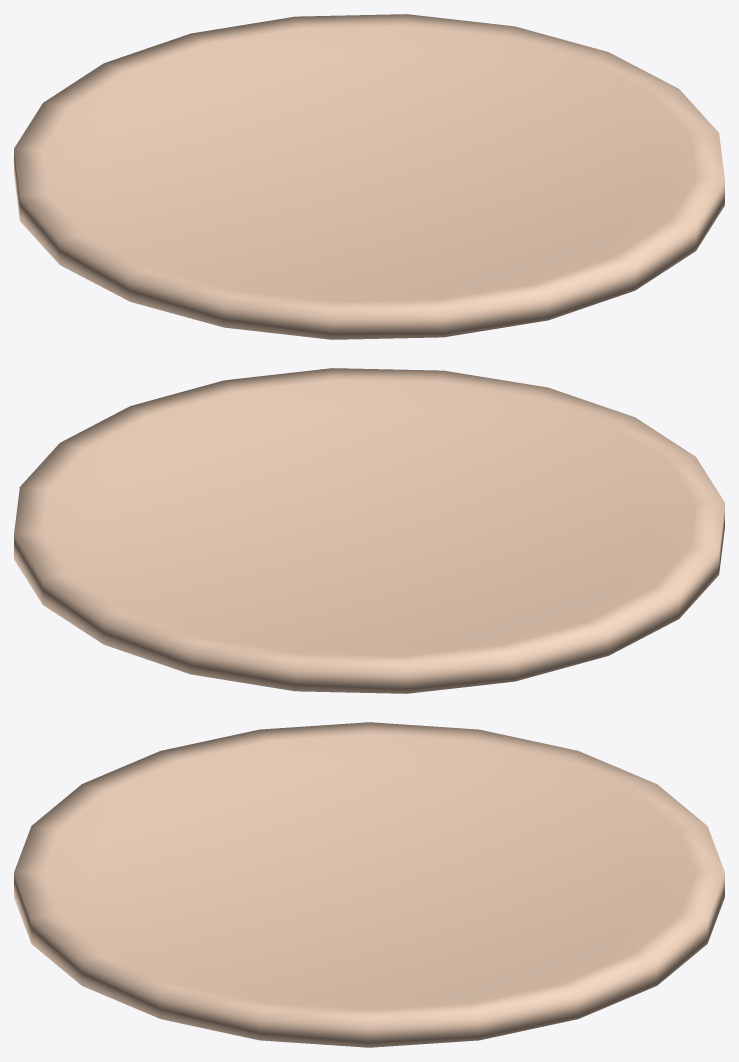
The model's file is RawPizzaBase.glb.
The picture shows the model from 3 angles, top to bottom: view 1: azimuth 30°, elevation 25°; view 2: azimuth 150°, elevation 25°; view 3: azimuth 270°, elevation 25°; orthographic projection.
Parts seen in each view (by area): view 1: Cylinder.033; view 2: Cylinder.033; view 3: Cylinder.033.
Part boxes in pixels (bbox=[...]): Cylinder.033: bbox=[14, 14, 724, 339]; Cylinder.033: bbox=[14, 368, 724, 693]; Cylinder.033: bbox=[14, 722, 724, 1047].
Size of the model in its own units: 0.8833 by 0.0344 by 0.8833.
